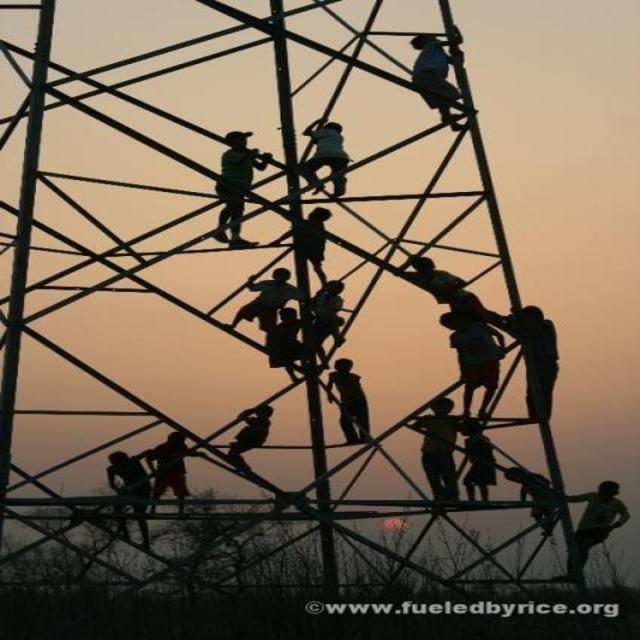non-critical vegetation: (5, 6, 573, 584)
